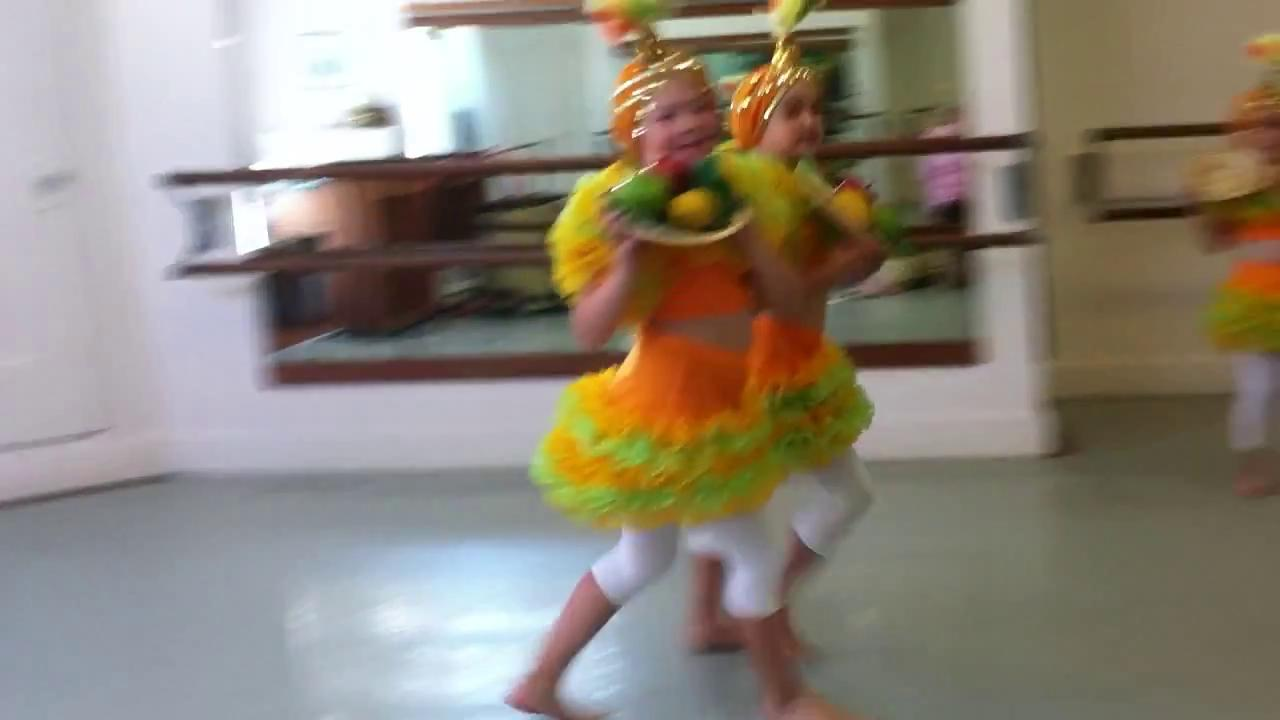victim: (499, 47, 859, 720), (682, 56, 888, 663), (1178, 83, 1274, 504), (904, 102, 996, 306)
